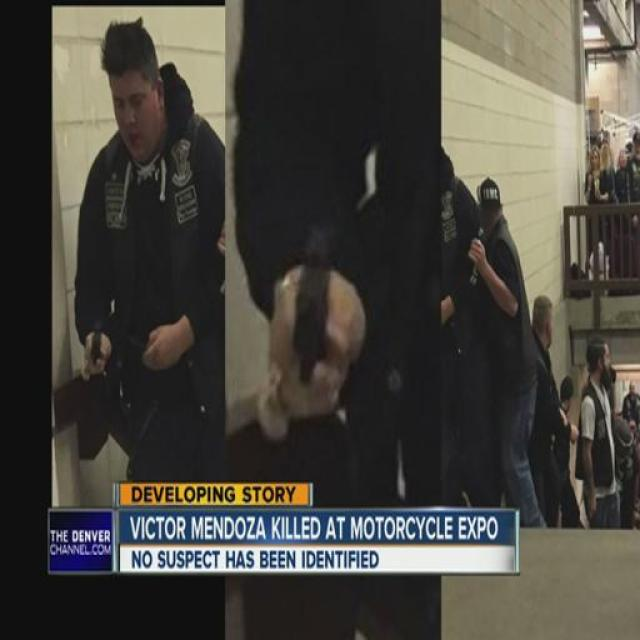pistol: (290, 216, 332, 384), (88, 314, 104, 368)
